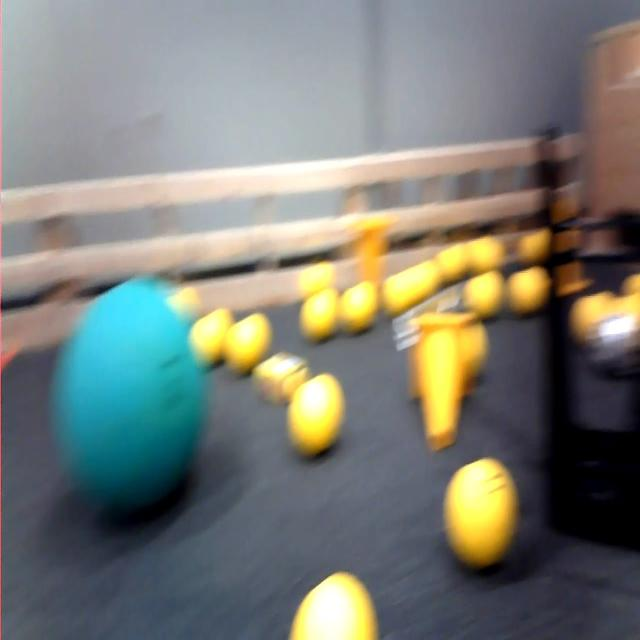fuel: (437, 442, 517, 567), (282, 560, 372, 640), (226, 310, 269, 366), (191, 312, 236, 364), (466, 269, 506, 326), (300, 288, 338, 348), (512, 267, 552, 318), (343, 274, 379, 323), (298, 254, 336, 297), (437, 237, 472, 280), (576, 298, 607, 342), (169, 282, 209, 316), (470, 235, 508, 269), (522, 222, 554, 260), (387, 267, 415, 309), (411, 260, 438, 294), (610, 300, 640, 327)
